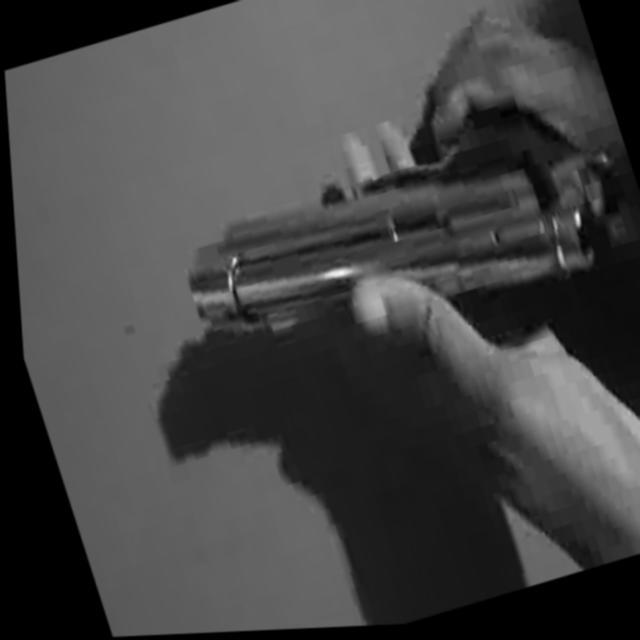weapon: (164, 115, 640, 389)
